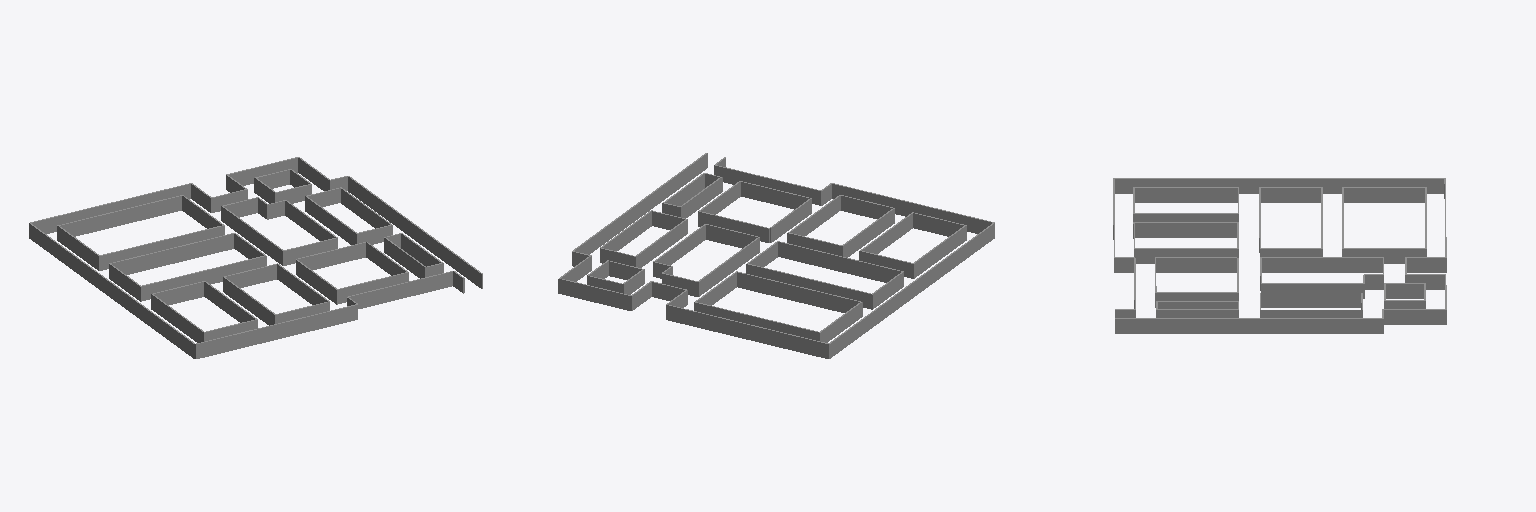
The model's file is laberintoYoshi.obj.
3 renders of one model, left to right at view 1: azimuth 30°, elevation 25°; view 2: azimuth 150°, elevation 25°; view 3: azimuth 270°, elevation 25°, orthographic.
Visible parts, largest first — view 1: linea_derecha.018_Cube.015; view 2: linea_derecha.018_Cube.015; view 3: linea_derecha.018_Cube.015.
Boxes of the visible parts, x1,y1,x2,y2 form: linea_derecha.018_Cube.015: [29, 157, 482, 358]; linea_derecha.018_Cube.015: [558, 153, 994, 358]; linea_derecha.018_Cube.015: [1113, 178, 1446, 333].
Size of the model in its own units: 16.05 by 0.8111 by 16.05.